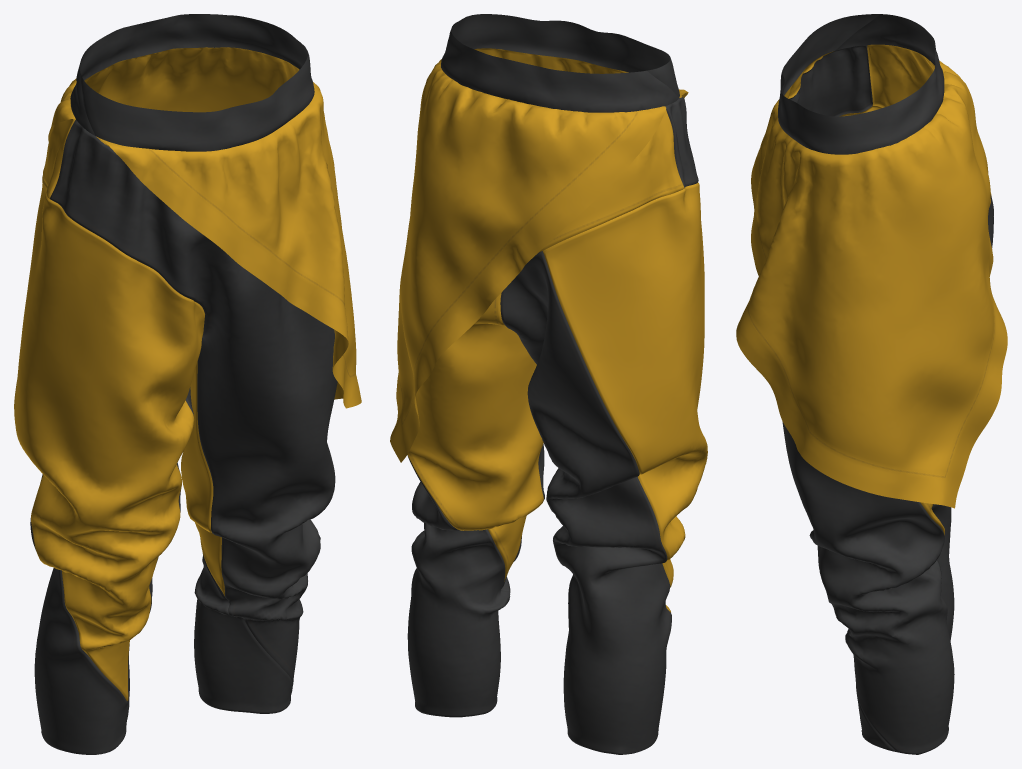
Rendered from embroidered_utility_scarf_pants__3d_model.glb.
The picture shows the model from 3 angles, left to right: view 1: azimuth 30°, elevation 25°; view 2: azimuth 150°, elevation 25°; view 3: azimuth 270°, elevation 25°; orthographic projection. The views are drawn at different scales.
Visible parts, largest first — view 1: Object_5, Object_4, Object_3, Object_6, Object_2; view 2: Object_6, Object_3, Object_4, Object_2, Object_5; view 3: Object_3, Object_5, Object_6, Object_2.
Boxes of the visible parts, x1,y1,x2,y2 form: Object_5: [50, 120, 337, 713]; Object_4: [14, 175, 204, 701]; Object_3: [48, 79, 361, 408]; Object_6: [30, 14, 314, 754]; Object_2: [43, 47, 314, 595]; Object_6: [441, 14, 679, 754]; Object_3: [390, 59, 688, 462]; Object_4: [543, 182, 707, 612]; Object_2: [407, 48, 684, 581]; Object_5: [407, 97, 698, 717]; Object_3: [736, 45, 1007, 508]; Object_5: [782, 45, 954, 754]; Object_6: [778, 14, 993, 640]; Object_2: [780, 44, 944, 535].
Size of the model in its own units: 422 by 901 by 342.
2 materials, 2 textured.
